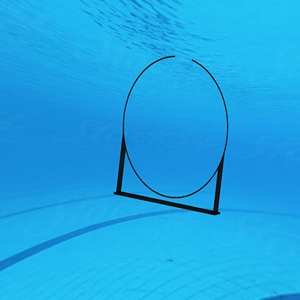circle: (112, 54, 231, 218)
